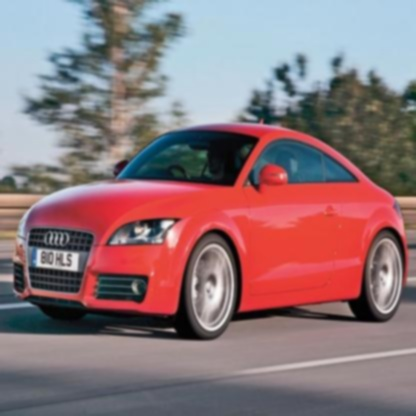Vehicle: (13, 120, 408, 341)
